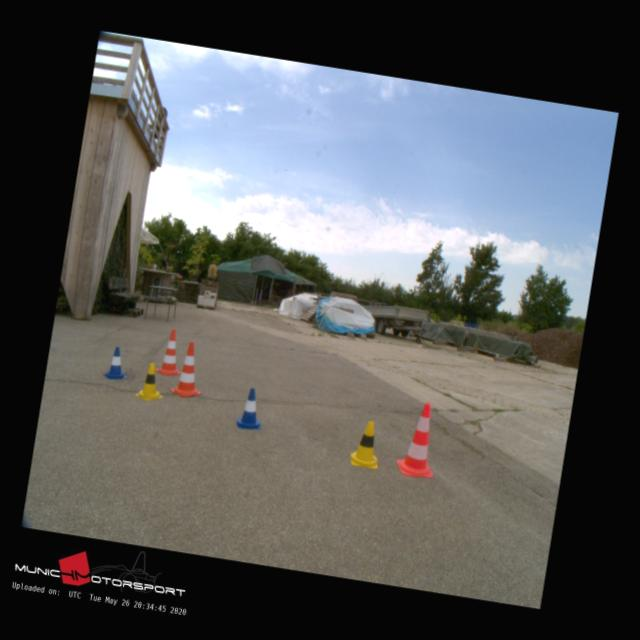blue_cone: (235, 386, 268, 431), (103, 346, 131, 382)
large_orange_cone: (394, 399, 444, 478), (170, 339, 209, 398), (154, 328, 187, 377)
yellow_cone: (348, 419, 384, 469), (135, 361, 169, 402)
